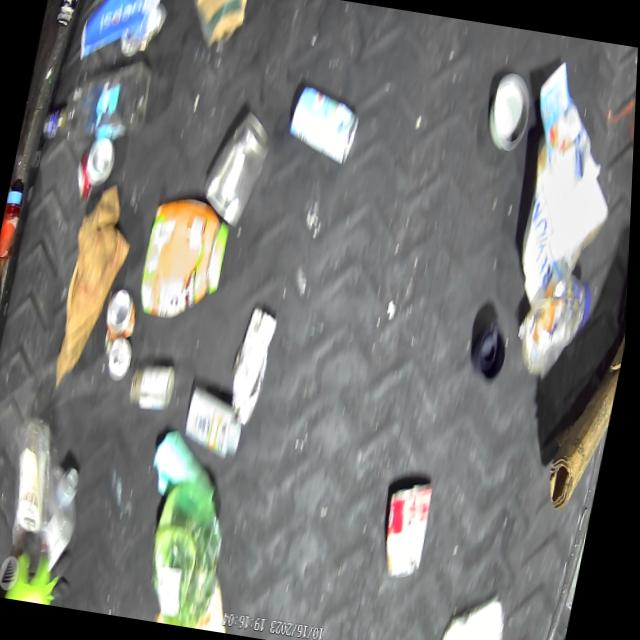can: (282, 81, 367, 167), (378, 474, 441, 584), (483, 66, 539, 154), (72, 134, 121, 206), (99, 287, 144, 353), (98, 339, 138, 382)
non_white_jug: (133, 190, 238, 327)
plastic_bottle: (40, 46, 157, 156), (0, 414, 72, 560)
